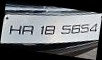character: (21, 24, 34, 35), (9, 24, 22, 34), (44, 24, 55, 35), (60, 24, 71, 35), (71, 23, 81, 34), (80, 23, 89, 33), (89, 23, 98, 32), (40, 25, 45, 35)
